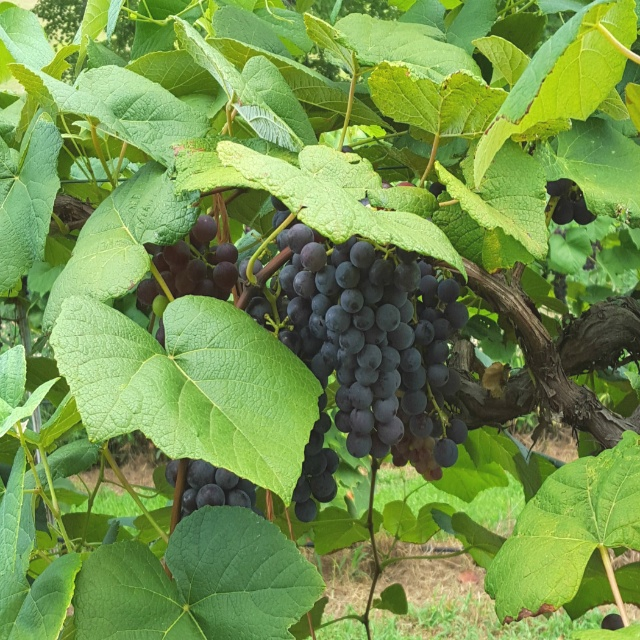grape: (276, 221, 417, 469)
